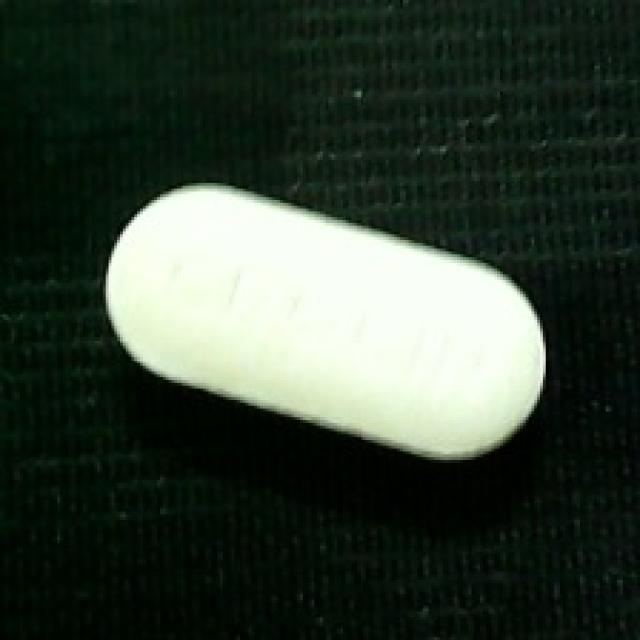no-defect: (100, 181, 549, 462)
